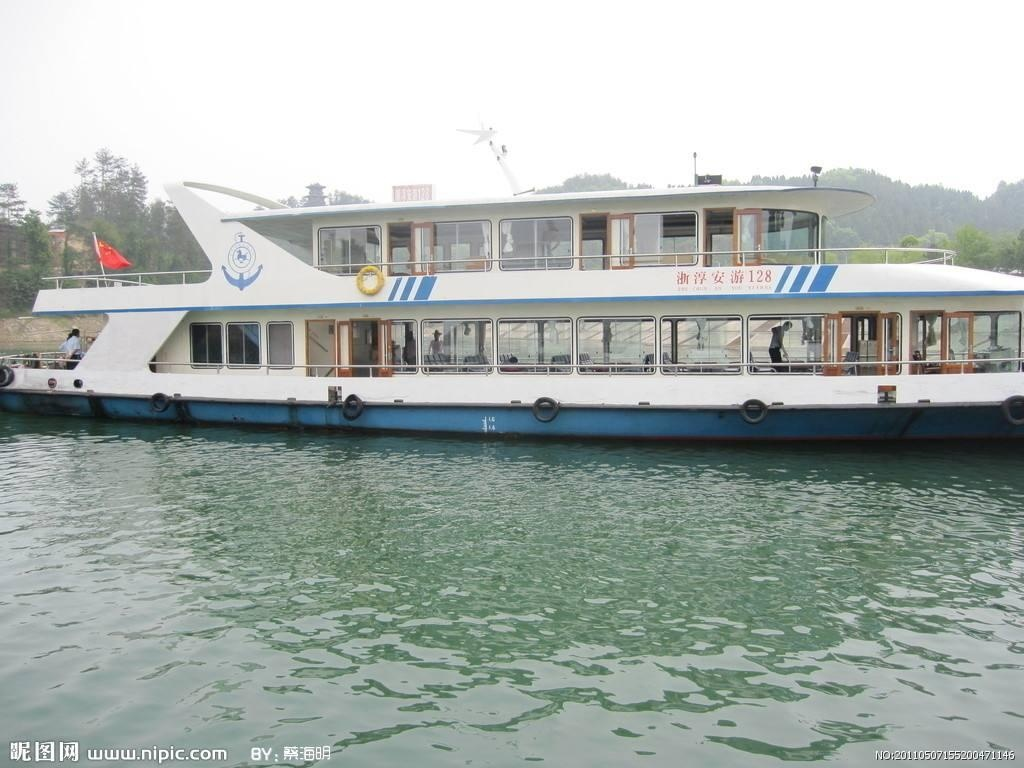otherboat: (1, 149, 1024, 431)
